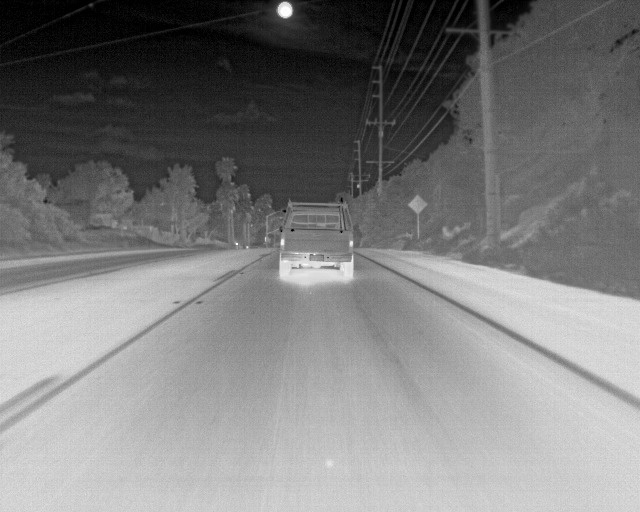vehicle: (279, 201, 356, 279)
